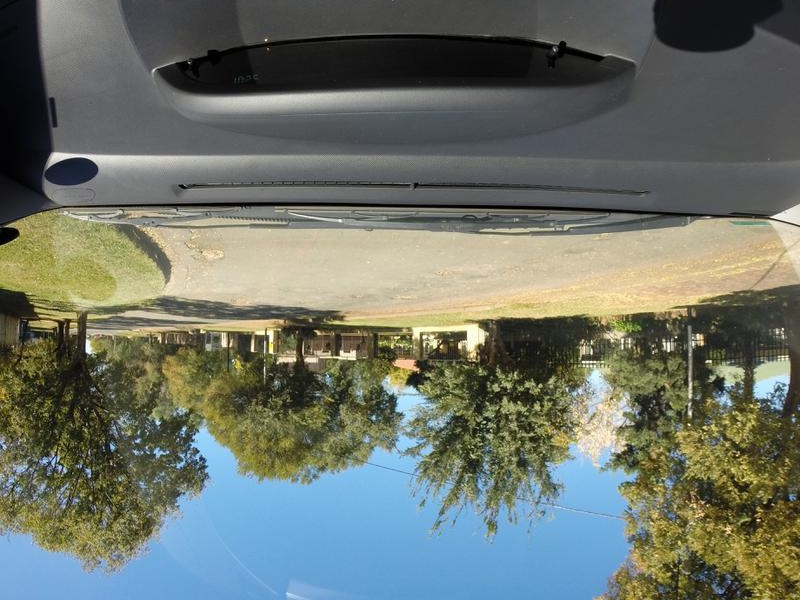pothole: (184, 233, 228, 265), (431, 265, 463, 276), (592, 233, 613, 247), (352, 291, 374, 302), (389, 296, 416, 304)
